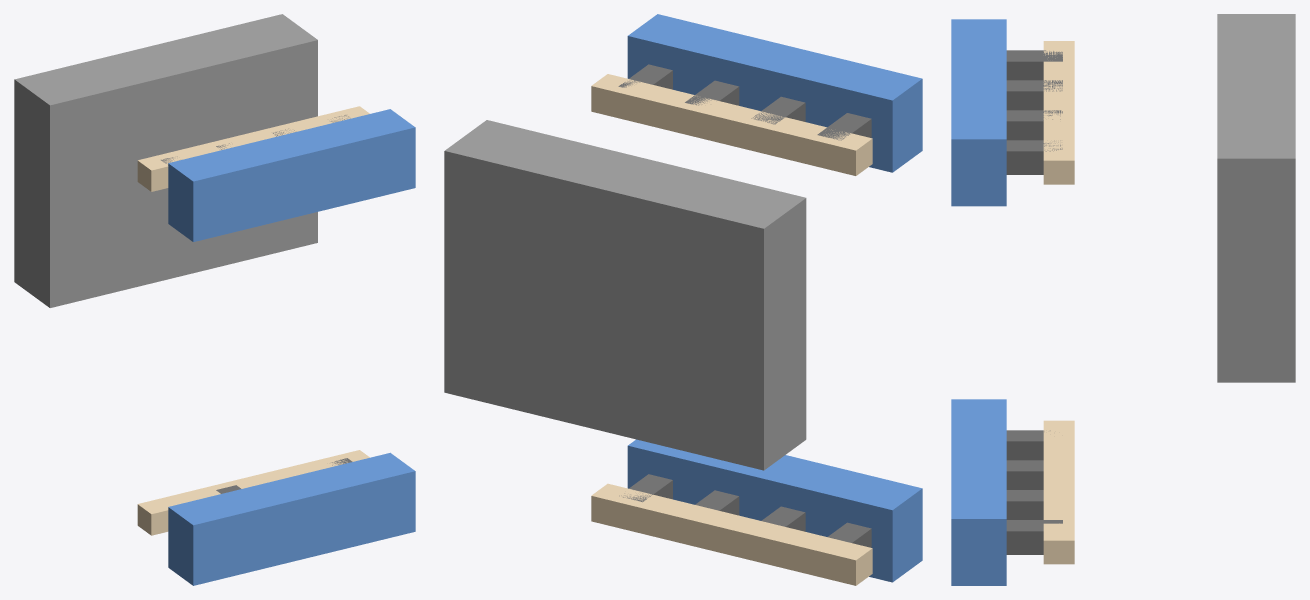
The model's file is sky130_fd_sc_hd__fill_4.gds.gltf.
3 renders of one model, left to right at view 1: azimuth 30°, elevation 25°; view 2: azimuth 150°, elevation 25°; view 3: azimuth 270°, elevation 25°, orthographic. The views are drawn at different scales.
Parts seen in each view (by area): view 1: sky130_fd_sc_hd__fill_4_nwell, sky130_fd_sc_hd__fill_4_met1, sky130_fd_sc_hd__fill_4_li1; view 2: sky130_fd_sc_hd__fill_4_nwell, sky130_fd_sc_hd__fill_4_met1, sky130_fd_sc_hd__fill_4_li1, sky130_fd_sc_hd__fill_4_mcon; view 3: sky130_fd_sc_hd__fill_4_nwell, sky130_fd_sc_hd__fill_4_met1, sky130_fd_sc_hd__fill_4_mcon, sky130_fd_sc_hd__fill_4_li1.
Part boxes in pixels (x1,y1,x2,y2): sky130_fd_sc_hd__fill_4_nwell: [14, 14, 317, 307]; sky130_fd_sc_hd__fill_4_met1: [168, 109, 415, 585]; sky130_fd_sc_hd__fill_4_li1: [137, 106, 369, 535]; sky130_fd_sc_hd__fill_4_nwell: [444, 120, 806, 470]; sky130_fd_sc_hd__fill_4_met1: [627, 14, 922, 582]; sky130_fd_sc_hd__fill_4_li1: [591, 74, 872, 585]; sky130_fd_sc_hd__fill_4_mcon: [618, 64, 871, 547]; sky130_fd_sc_hd__fill_4_nwell: [1217, 14, 1295, 382]; sky130_fd_sc_hd__fill_4_met1: [951, 19, 1006, 585]; sky130_fd_sc_hd__fill_4_mcon: [1006, 50, 1062, 554]; sky130_fd_sc_hd__fill_4_li1: [1043, 41, 1074, 564].
Bounding box in the file's own units: 2.22 × 3.2 × 2.24.
